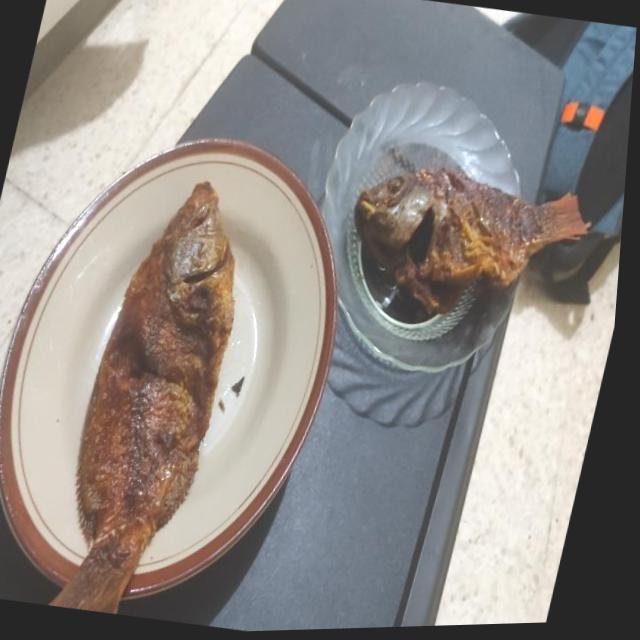ikan_mujair: (52, 182, 234, 613), (354, 168, 588, 314)
